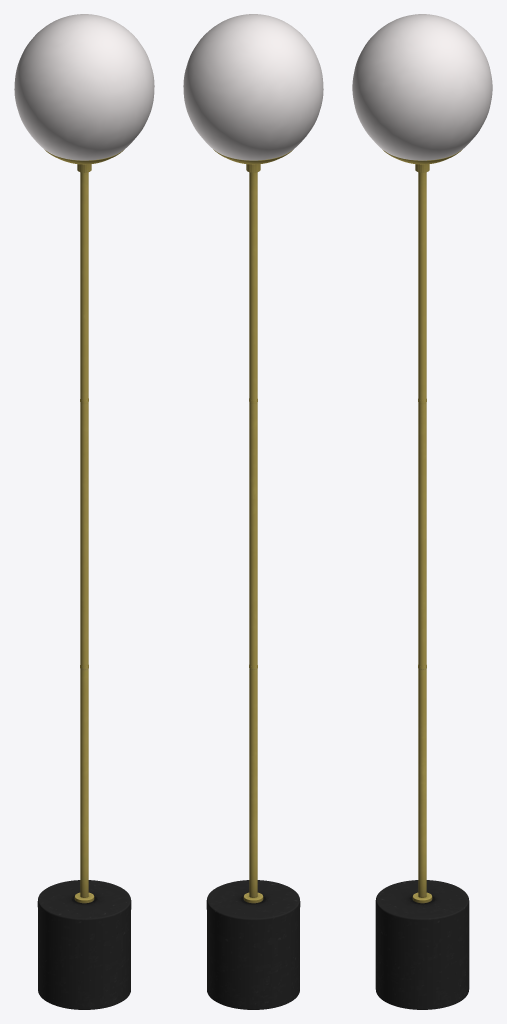
The model's file is abo-B082XMFBY2.glb.
3 views of the same model, side by side, from view 1: azimuth 30°, elevation 25°; view 2: azimuth 150°, elevation 25°; view 3: azimuth 270°, elevation 25° (orthographic).
Bounding box in the file's own units: 0.229 × 1.75 × 0.229.
Materials: 1 (1 with a texture image).
